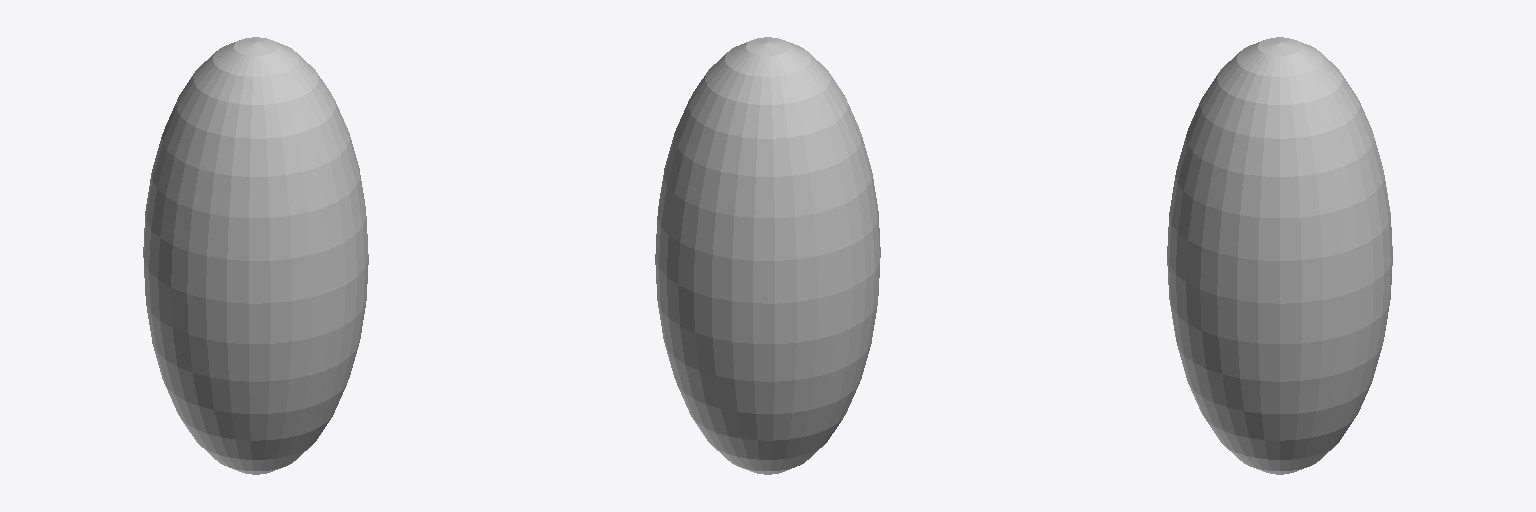
File: oval.obj
The picture shows the model from 3 angles: view 1: azimuth 30°, elevation 25°; view 2: azimuth 150°, elevation 25°; view 3: azimuth 270°, elevation 25°; orthographic projection.
Visible parts, largest first — view 1: 구체; view 2: 구체; view 3: 구체.
Part boxes in pixels (x1,y1,x2,y2): 구체: (143,37,368,474); 구체: (655,37,880,474); 구체: (1167,37,1392,474).
Size of the model in its own units: 1.09 by 2.28 by 1.09.